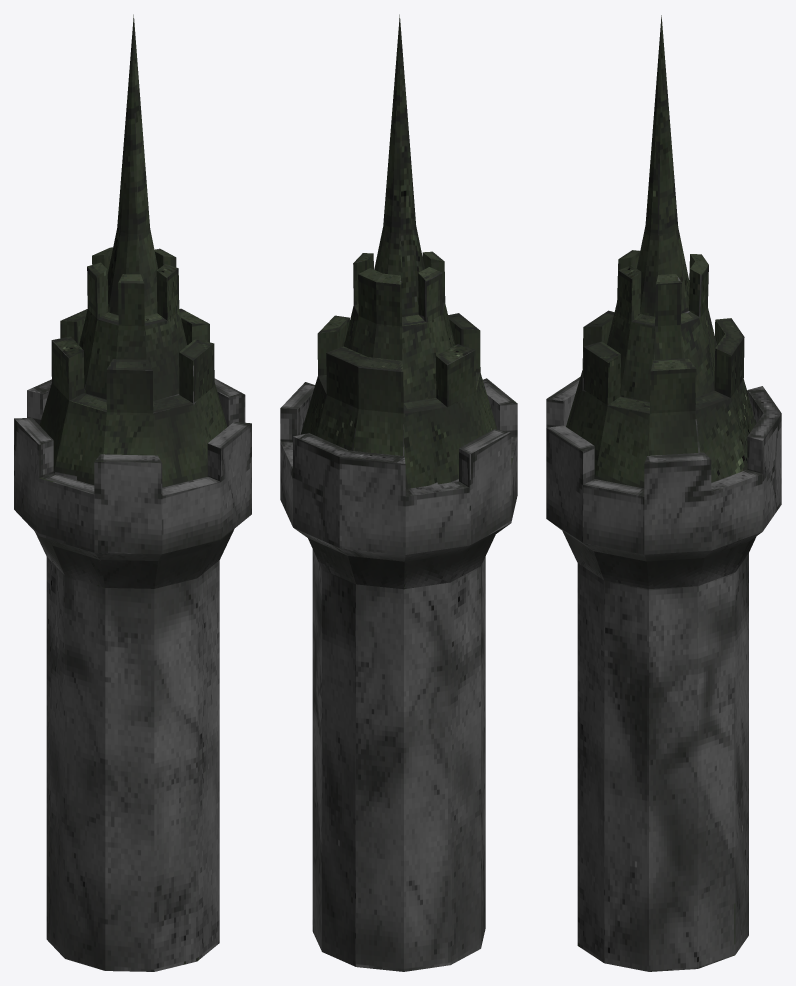
File: pointedtower_wt.fbx
3 renders of one model, left to right at view 1: azimuth 30°, elevation 25°; view 2: azimuth 150°, elevation 25°; view 3: azimuth 270°, elevation 25°, orthographic.
Visible parts, largest first — view 1: Cylinder.005; view 2: Cylinder.005; view 3: Cylinder.005.
Boxes of the visible parts, <box> form: Cylinder.005: <box>14,14,251,971</box>; Cylinder.005: <box>280,14,517,971</box>; Cylinder.005: <box>546,15,781,971</box>.
Size of the model in its own units: 2980 by 12735 by 2950.
